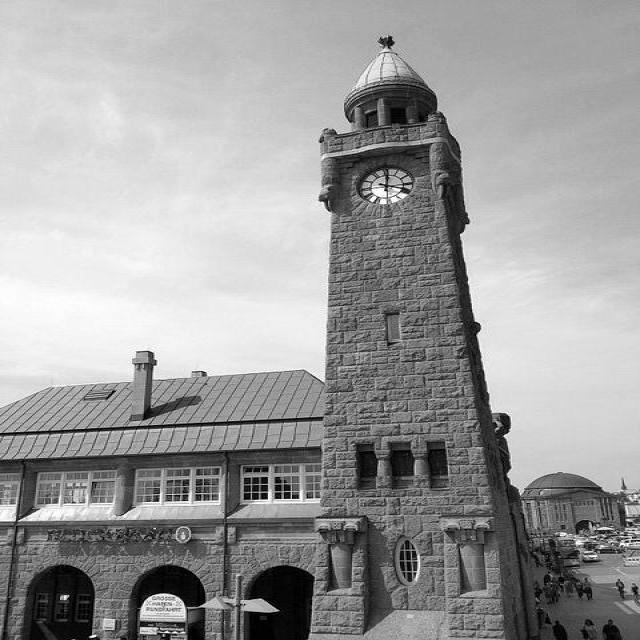vehicle: (592, 544, 627, 554), (619, 540, 640, 550), (583, 551, 601, 561)
